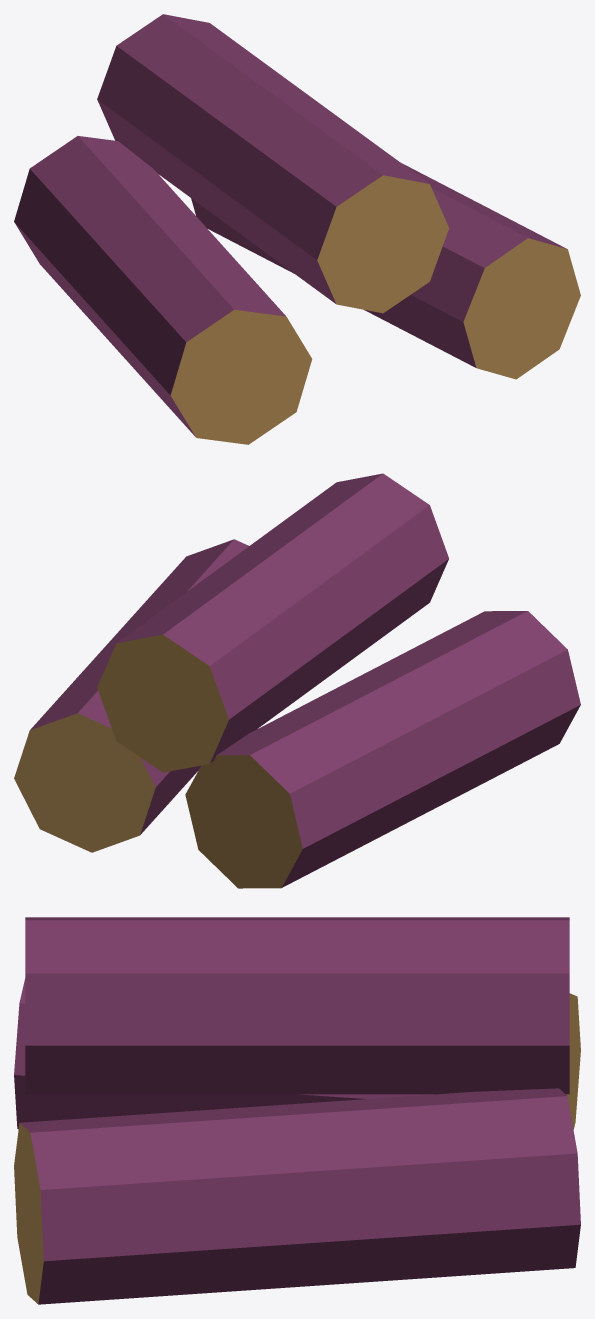
The picture shows the model from 3 angles, top to bottom: view 1: azimuth 30°, elevation 25°; view 2: azimuth 150°, elevation 25°; view 3: azimuth 270°, elevation 25°; orthographic projection. The views are drawn at different scales.
Parts seen in each view (by area): view 1: Carried root; view 2: Carried root; view 3: Carried root.
Boxes of the visible parts, left/top/right/bottom form: Carried root: left=14, top=14, right=580, bottom=444; Carried root: left=14, top=473, right=580, bottom=888; Carried root: left=14, top=917, right=580, bottom=1304.
Bounding box in the file's own units: 0.5597 × 0.3096 × 0.5419.
